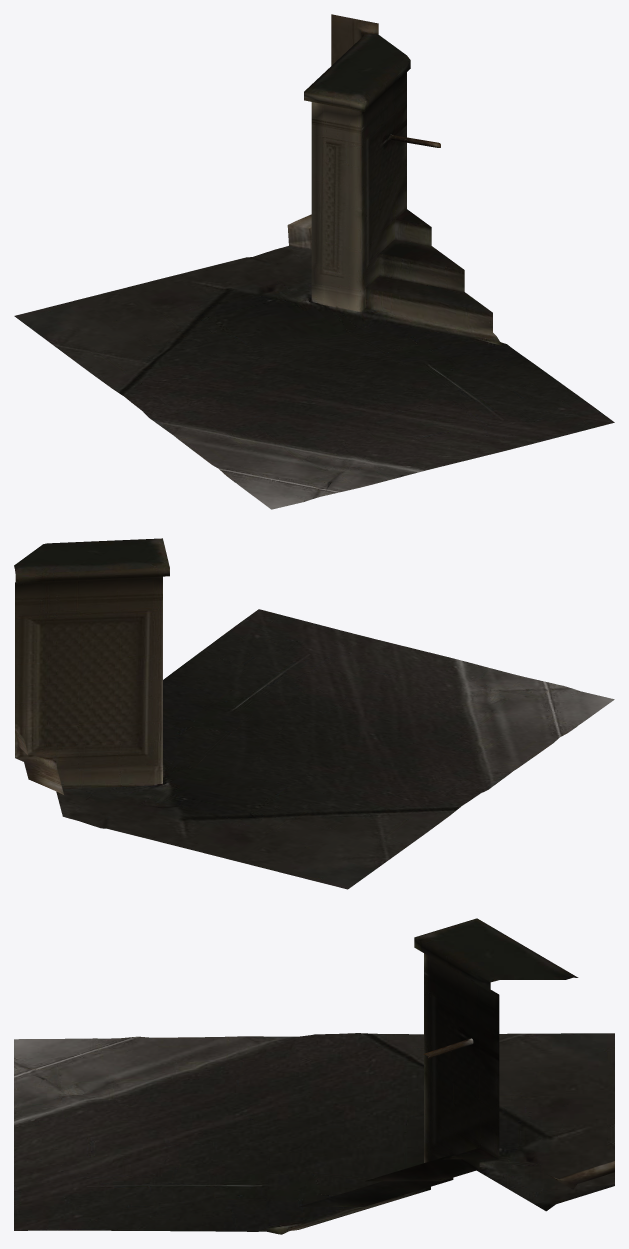
The picture shows the model from 3 angles, top to bottom: view 1: azimuth 30°, elevation 25°; view 2: azimuth 150°, elevation 25°; view 3: azimuth 270°, elevation 25°; orthographic projection. The views are drawn at different scales.
Size of the model in its own units: 3.13 by 2.03 by 4.06.
Materials: 1 (1 with a texture image).
